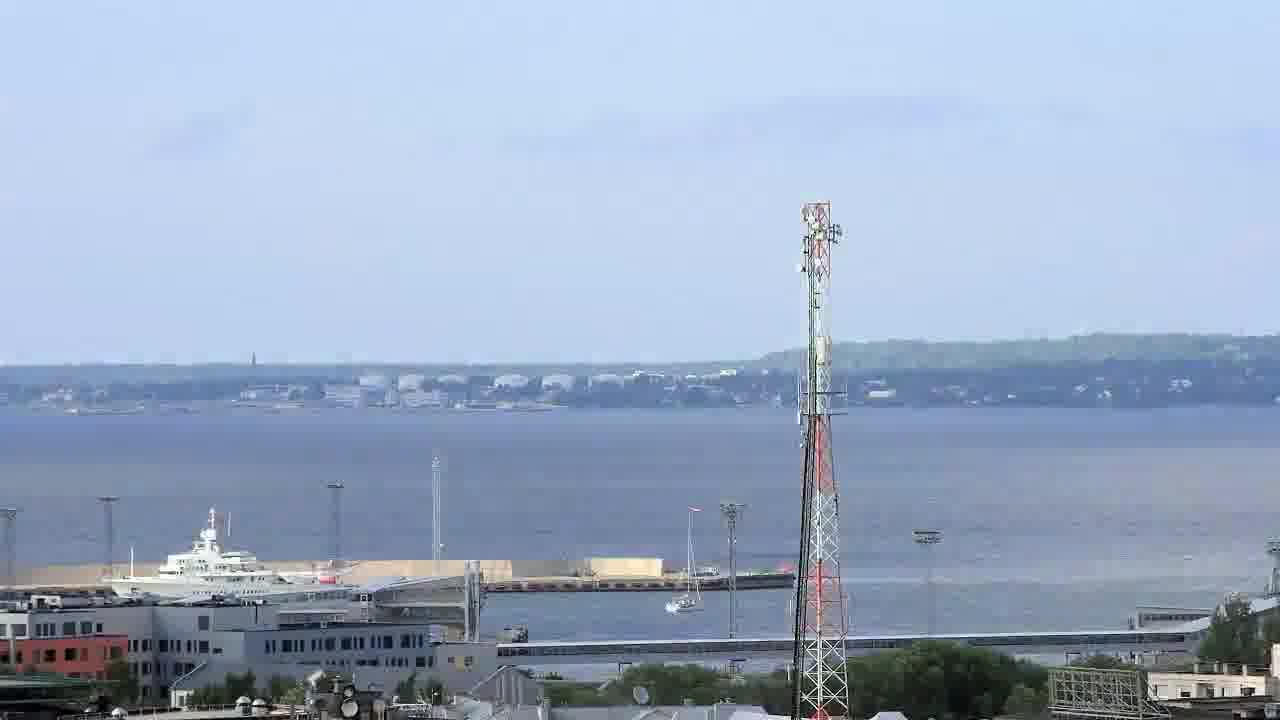type-0: (657, 575, 718, 623)
type-3: (88, 507, 346, 605)
